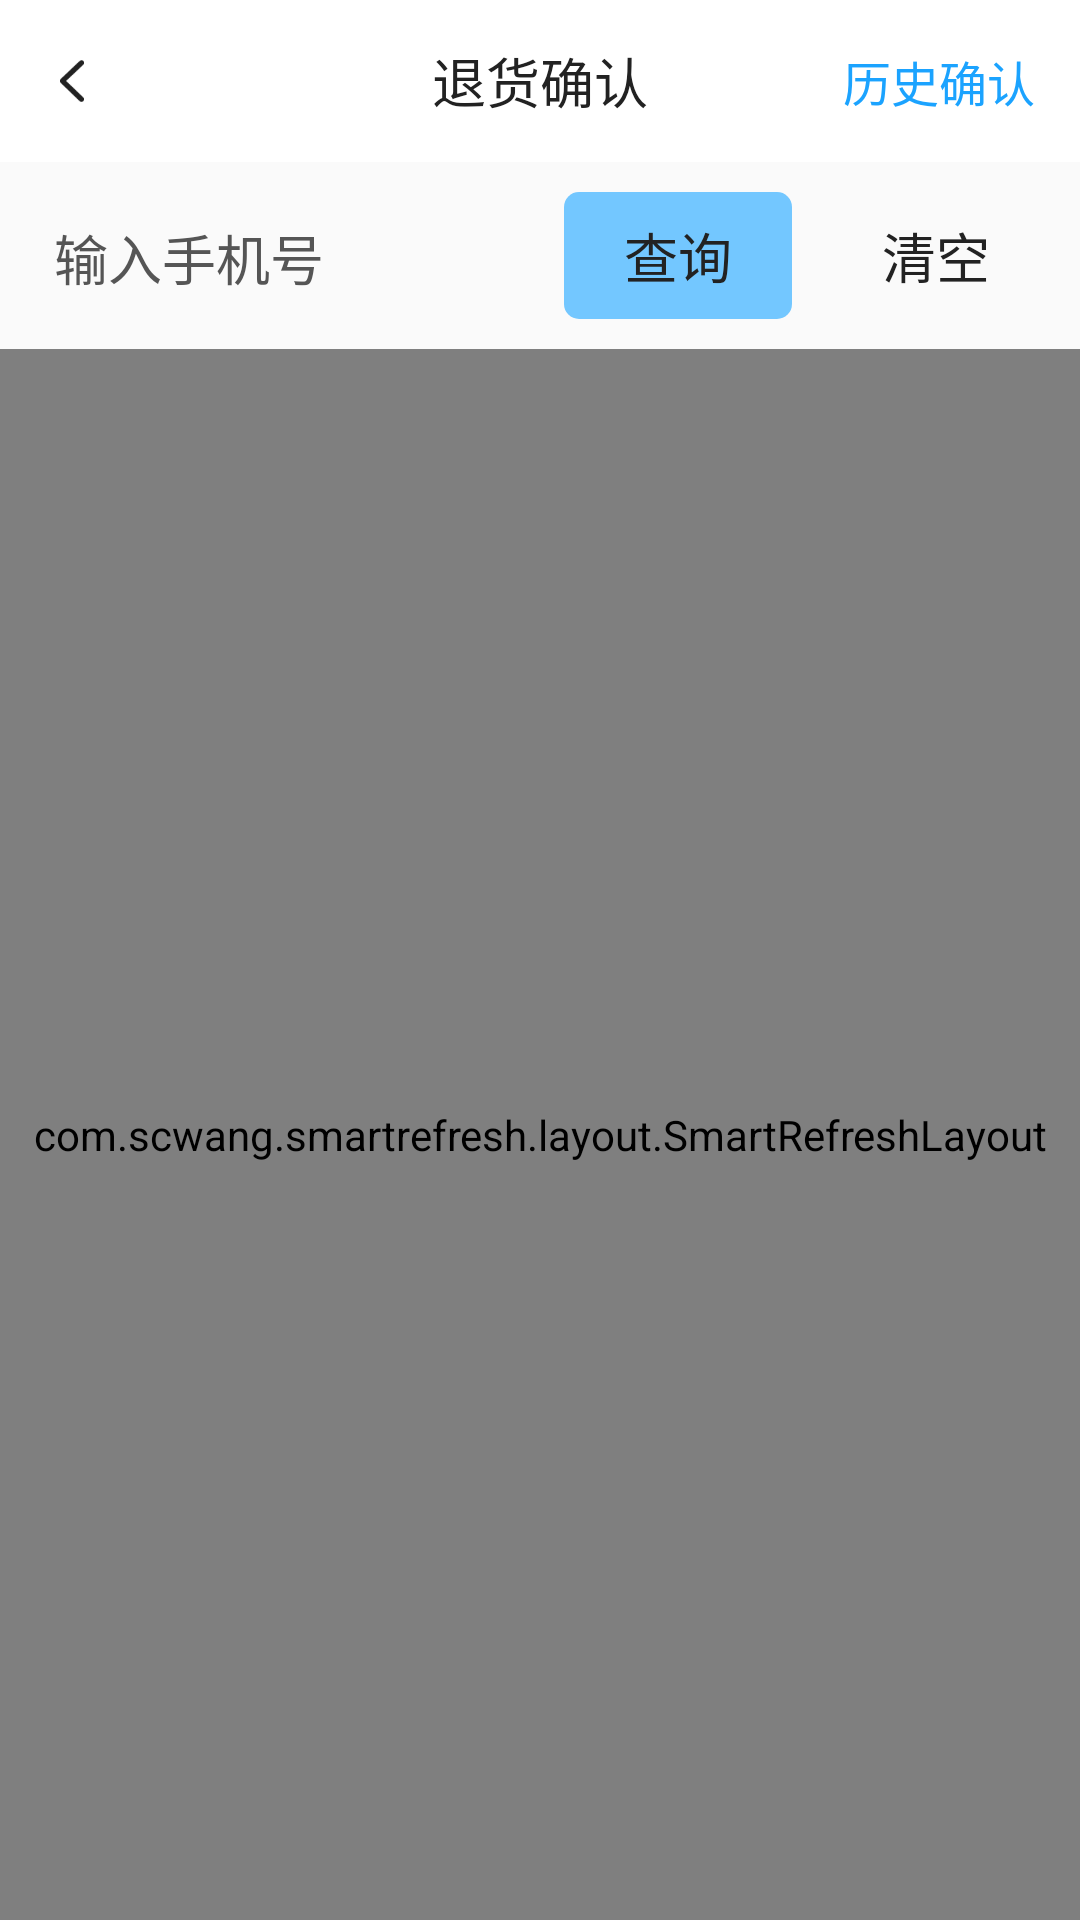

Named icons in this screenshot (1080 x 1920) and their centers, (x=x, y=y):
goback: (x=72, y=81)
